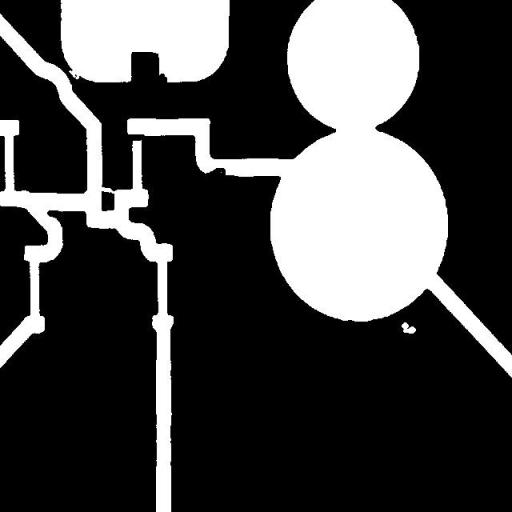mousebite: (61, 62, 86, 86)
open: (90, 178, 125, 201)
pin-hole: (394, 314, 423, 341)
short: (117, 126, 152, 148)
spur: (198, 160, 232, 184), (40, 202, 70, 228), (148, 66, 174, 90)
